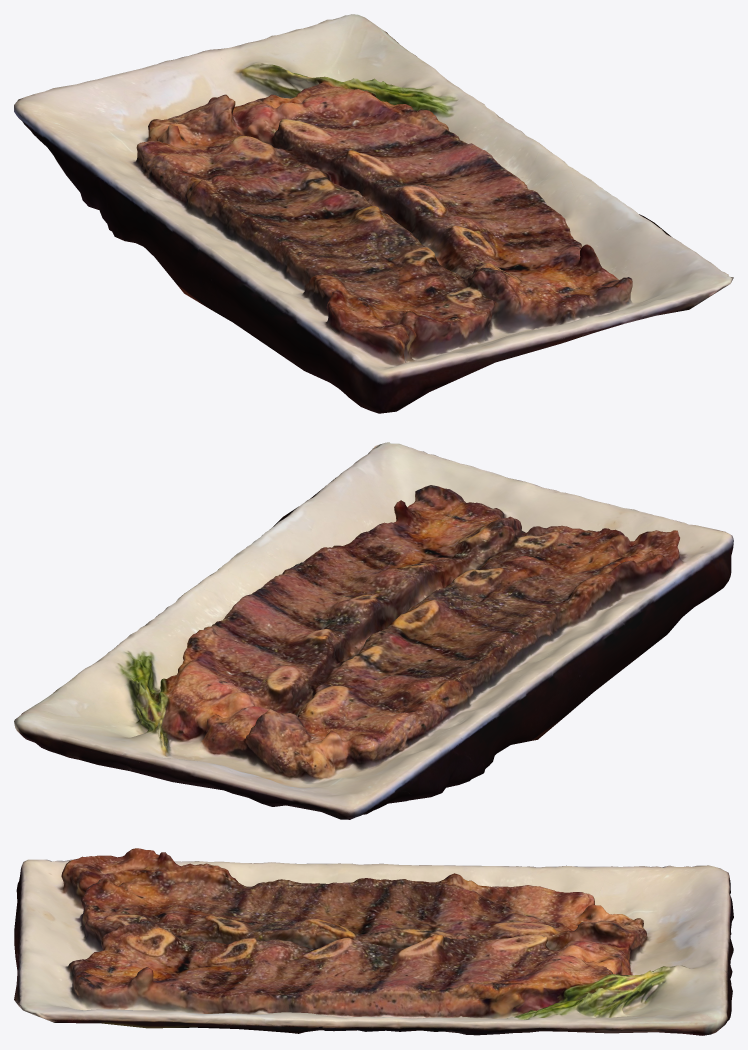
Rendered from ar-asado-de-tira.glb.
The picture shows the model from 3 angles, top to bottom: view 1: azimuth 30°, elevation 25°; view 2: azimuth 150°, elevation 25°; view 3: azimuth 270°, elevation 25°; orthographic projection. The views are drawn at different scales.
Parts seen in each view (by area): view 1: ObjectCapture; view 2: ObjectCapture; view 3: ObjectCapture.
Boxes of the visible parts, x1,y1,x2,y2 form: ObjectCapture: (14, 14, 733, 413); ObjectCapture: (14, 442, 733, 819); ObjectCapture: (14, 848, 733, 1035).
Size of the model in its own units: 0.1964 by 0.0435 by 0.3515.
1 material, 1 textured.
